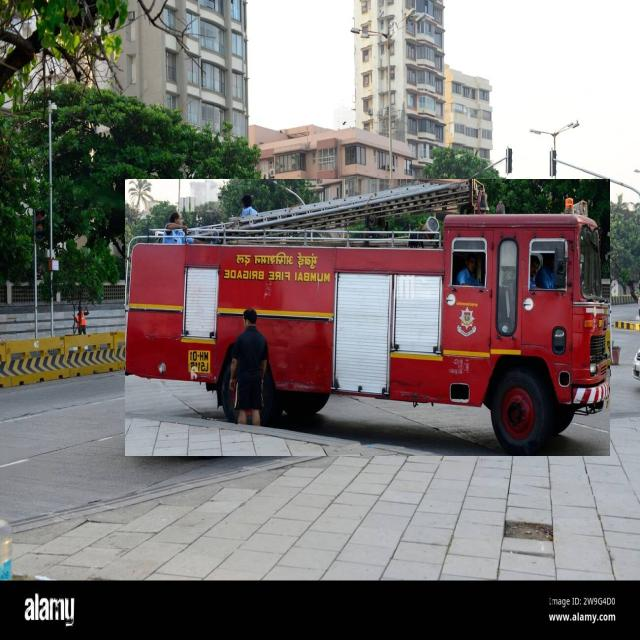emergency: (125, 180, 610, 456)
